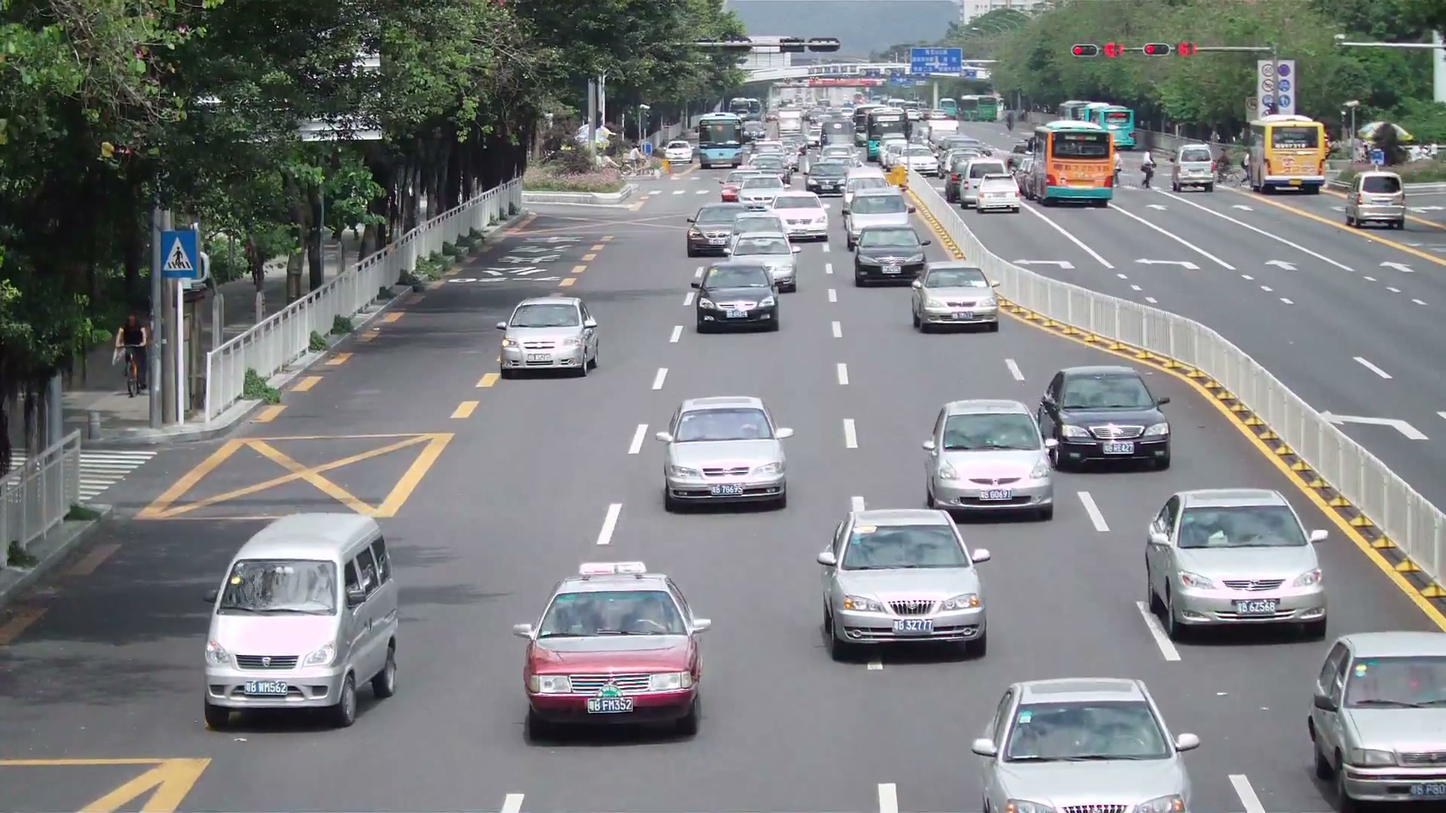bus: (1052, 100, 1135, 151)
car: (202, 509, 400, 730), (513, 569, 712, 742), (970, 678, 1200, 812), (1142, 488, 1330, 641), (815, 502, 991, 664), (1305, 630, 1445, 809), (919, 397, 1056, 521), (656, 393, 792, 514), (1037, 364, 1172, 473), (498, 297, 600, 378), (909, 263, 1000, 333), (692, 260, 779, 333), (722, 213, 799, 292), (853, 223, 929, 287), (1346, 171, 1408, 228)
pedestrian: (120, 309, 150, 396), (1139, 150, 1157, 187)
truck: (1025, 122, 1116, 207), (1245, 114, 1331, 193), (695, 112, 744, 170), (1174, 143, 1216, 192)
